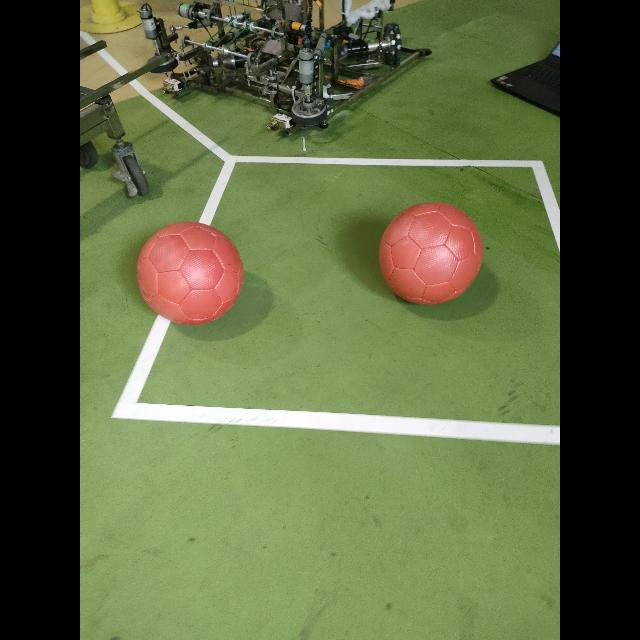R: (137, 222, 243, 324), (380, 202, 482, 304)
